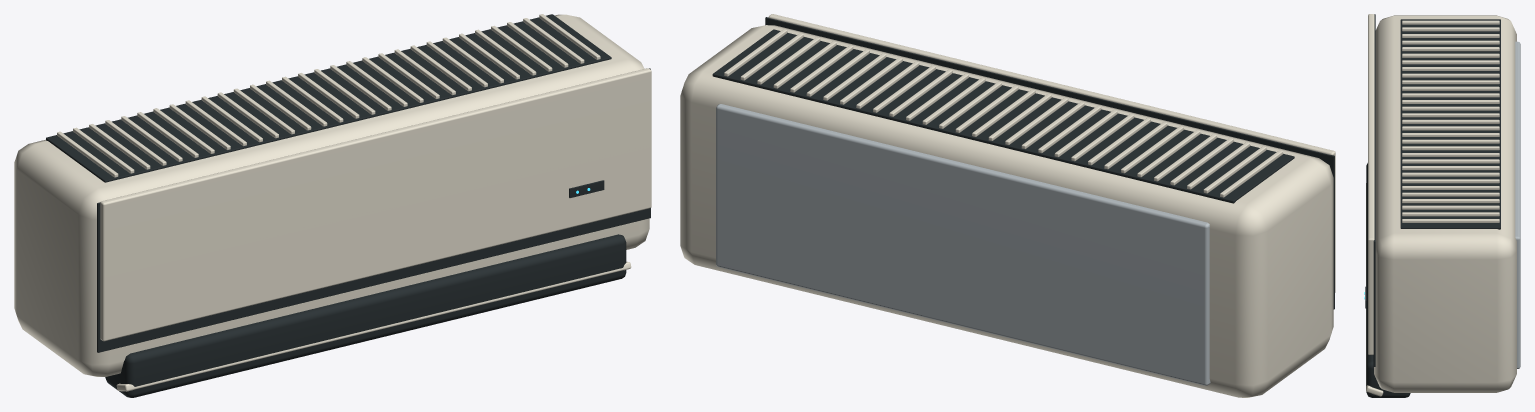
Rendered from utility-indoor-mini-split.glb.
3 views of the same model, side by side, from view 1: azimuth 30°, elevation 25°; view 2: azimuth 150°, elevation 25°; view 3: azimuth 270°, elevation 25° (orthographic). The views are drawn at different scales.
Visible parts, largest first — view 1: utility-indoor-mini-split authored assembly; view 2: utility-indoor-mini-split authored assembly; view 3: utility-indoor-mini-split authored assembly.
Boxes of the visible parts, box(x1,y1,x2,y2) form: utility-indoor-mini-split authored assembly: box(14, 14, 651, 397); utility-indoor-mini-split authored assembly: box(680, 14, 1335, 397); utility-indoor-mini-split authored assembly: box(1364, 14, 1520, 397).
Size of the model in its own units: 0.85 by 0.3 by 0.24.
